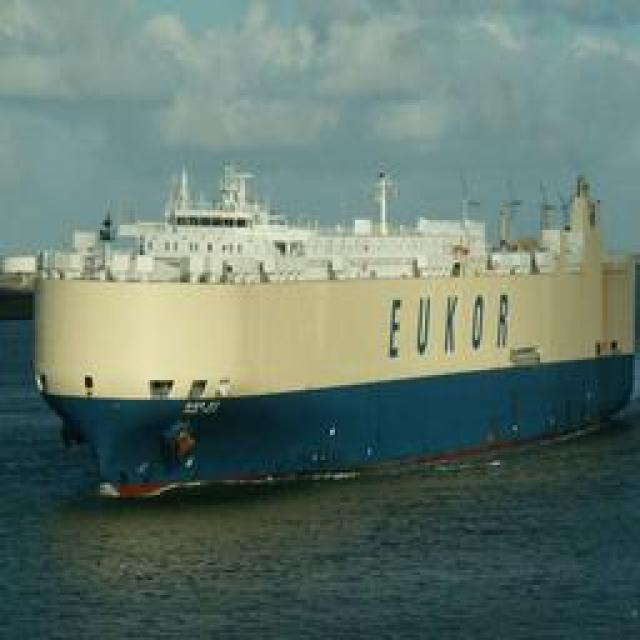CIV_Ship: (34, 182, 628, 496)
